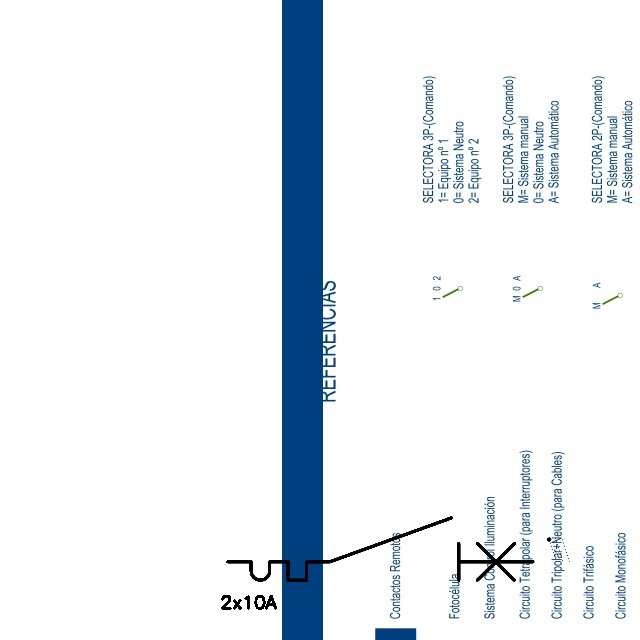interruptor_termomagnetico: (220, 510, 541, 588)
